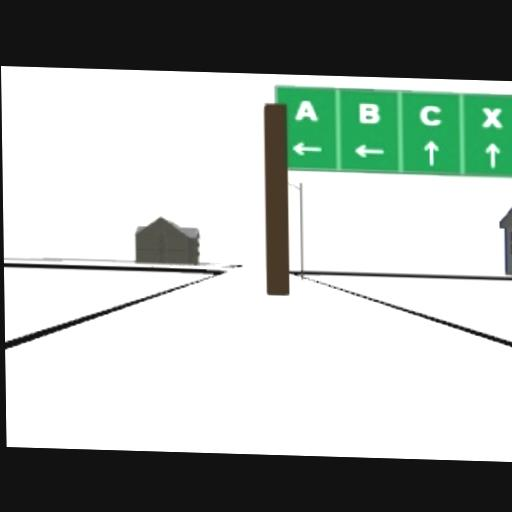A: (293, 98, 318, 120)
B: (357, 101, 380, 123)
C: (419, 103, 442, 125)
Left: (352, 142, 386, 157), (290, 141, 322, 155)
Straight: (423, 137, 439, 164), (485, 141, 501, 166)
X: (481, 105, 502, 126)
